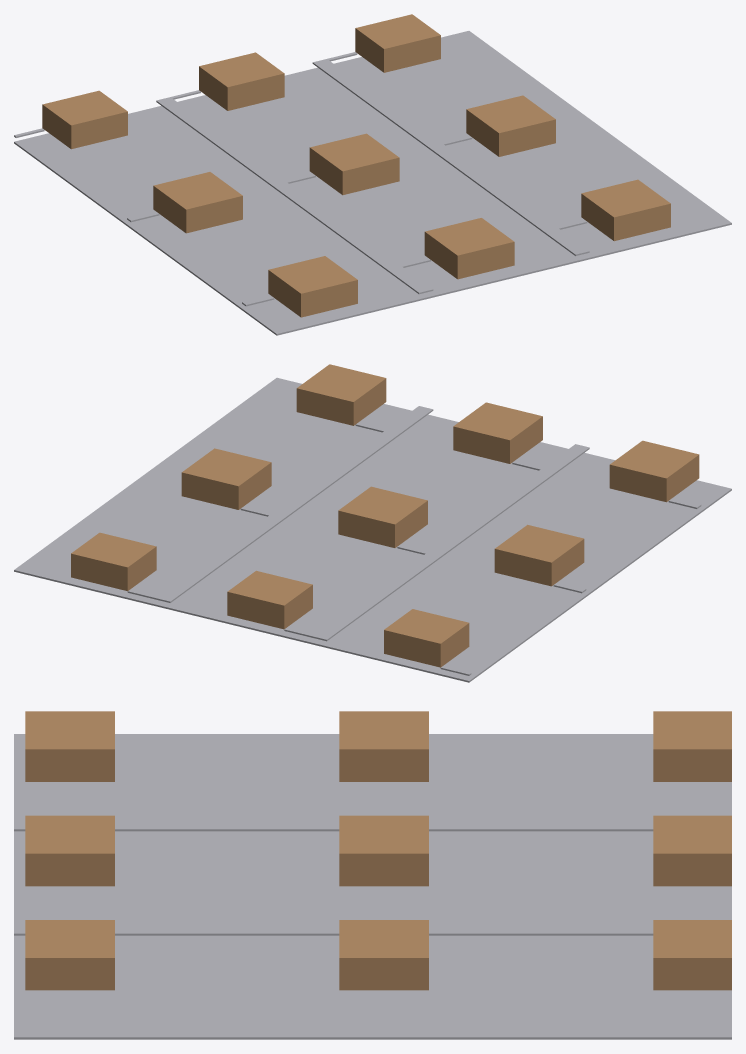
The model's file is city_c00_01.glb.
3 views of the same model, one above another, from view 1: azimuth 30°, elevation 25°; view 2: azimuth 150°, elevation 25°; view 3: azimuth 270°, elevation 25° (orthographic). The views are drawn at different scales.
Parts seen in each view (by area): view 1: terrain_west_proxy__c00_01, road_west_1__c00_01, road_west_0__c00_01, building_031__c00_01, building_041__c00_01, building_042__c00_01, building_030__c00_01, building_040__c00_01, building_032__c00_01, building_021__c00_01, building_022__c00_01, building_020__c00_01; view 2: terrain_west_proxy__c00_01, road_west_1__c00_01, road_west_0__c00_01, building_032__c00_01, building_040__c00_01, building_042__c00_01, building_030__c00_01, building_041__c00_01, building_031__c00_01, building_020__c00_01, building_021__c00_01, building_022__c00_01; view 3: terrain_west_proxy__c00_01, building_031__c00_01, building_041__c00_01, building_030__c00_01, building_032__c00_01, building_040__c00_01, building_042__c00_01, road_west_1__c00_01, building_021__c00_01, building_020__c00_01, building_022__c00_01, road_west_0__c00_01.
Part boxes in pixels (<box>): terrain_west_proxy__c00_01: <box>14,31,731,335</box>; road_west_1__c00_01: <box>156,97,433,294</box>; road_west_0__c00_01: <box>312,59,589,255</box>; building_031__c00_01: <box>309,133,399,195</box>; building_041__c00_01: <box>424,218,514,279</box>; building_042__c00_01: <box>268,256,357,317</box>; building_030__c00_01: <box>466,95,555,156</box>; building_040__c00_01: <box>581,179,670,241</box>; building_032__c00_01: <box>153,172,242,233</box>; building_021__c00_01: <box>199,52,284,110</box>; building_022__c00_01: <box>42,90,127,149</box>; building_020__c00_01: <box>355,14,440,72</box>; terrain_west_proxy__c00_01: <box>14,377,731,682</box>; road_west_1__c00_01: <box>312,444,589,641</box>; road_west_0__c00_01: <box>156,406,433,602</box>; building_032__c00_01: <box>494,524,584,586</box>; building_040__c00_01: <box>296,364,386,425</box>; building_042__c00_01: <box>609,440,699,502</box>; building_030__c00_01: <box>181,448,271,509</box>; building_041__c00_01: <box>453,402,542,463</box>; building_031__c00_01: <box>338,486,427,547</box>; building_020__c00_01: <box>71,532,156,591</box>; building_021__c00_01: <box>227,570,312,629</box>; building_022__c00_01: <box>384,609,469,667</box>; terrain_west_proxy__c00_01: <box>14,734,731,1039</box>; building_031__c00_01: <box>339,815,428,886</box>; building_041__c00_01: <box>25,815,114,886</box>; building_030__c00_01: <box>339,920,428,990</box>; building_032__c00_01: <box>339,711,428,781</box>; building_040__c00_01: <box>25,920,114,990</box>; building_042__c00_01: <box>25,711,114,781</box>; road_west_1__c00_01: <box>14,819,653,831</box>; building_021__c00_01: <box>653,815,731,886</box>; building_020__c00_01: <box>653,920,731,990</box>; building_022__c00_01: <box>653,711,731,781</box>; road_west_0__c00_01: <box>14,924,653,935</box>.
Bounding box in the file's own units: 128 × 8.6 × 128.
